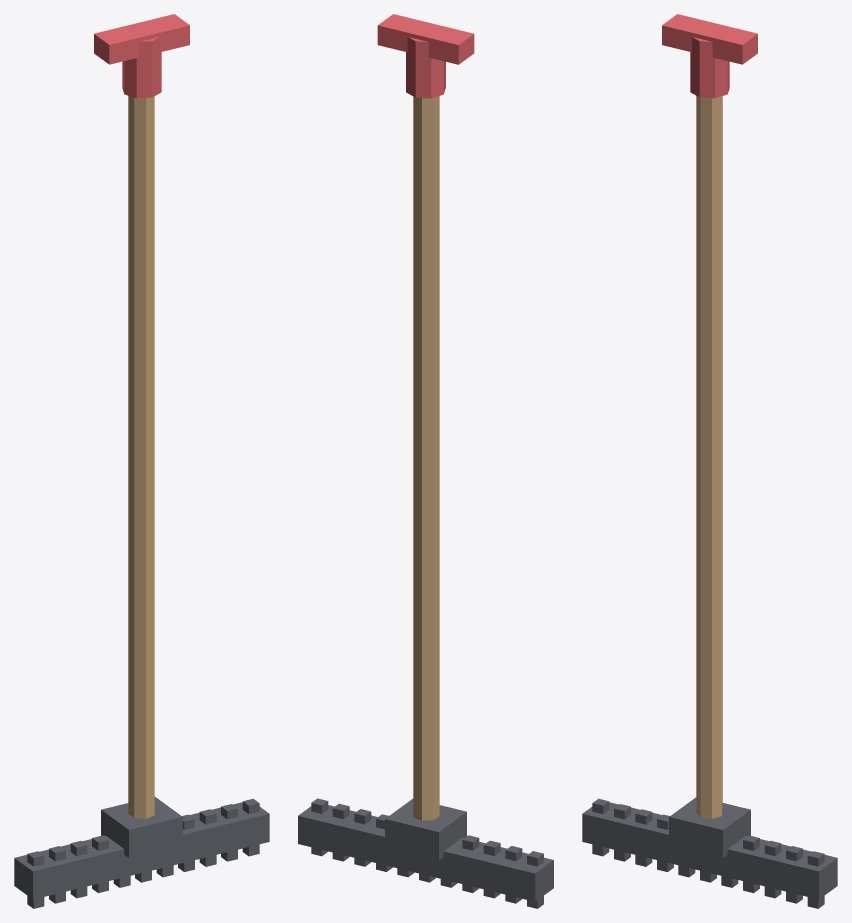
File: lawn-mowing-simulator-kit-garden-rake-8737f76c__27372.glb
3 renders of one model, left to right at view 1: azimuth 30°, elevation 25°; view 2: azimuth 150°, elevation 25°; view 3: azimuth 330°, elevation 25°, orthographic.
Parts seen in each view (by area): view 1: garden-rake; view 2: garden-rake; view 3: garden-rake.
Part boxes in pixels (x1,y1,x2,y2): garden-rake: [14, 14, 269, 908]; garden-rake: [298, 14, 553, 908]; garden-rake: [582, 14, 837, 908].
Bounding box in the file's own units: 0.44 × 1.51 × 0.09.
